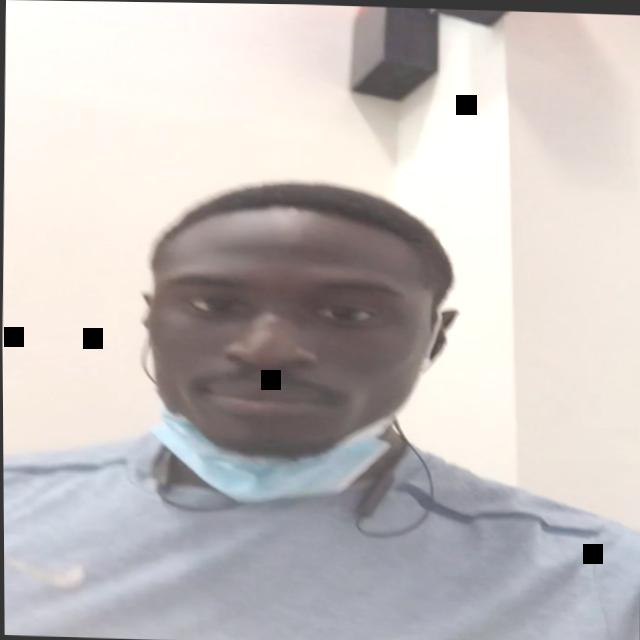NO-Mask: (134, 226, 445, 505)
